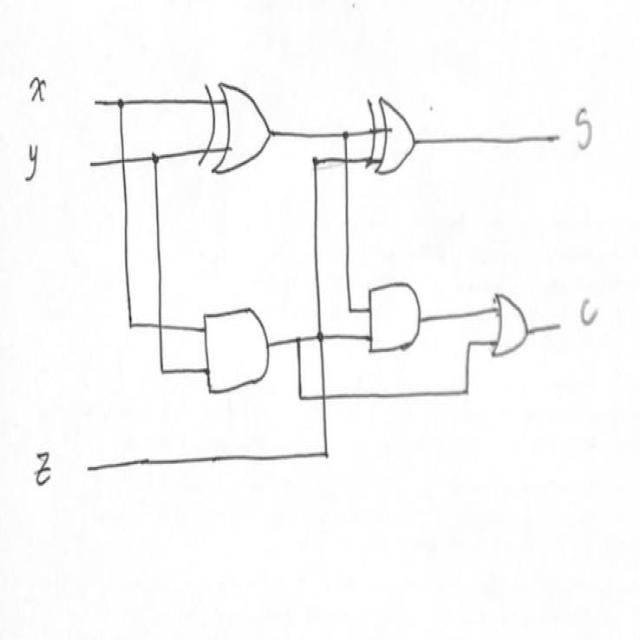AND: (192, 303, 280, 401), (358, 275, 431, 361)
OR: (480, 279, 535, 364)
XOR: (195, 68, 282, 189), (358, 90, 430, 189)
